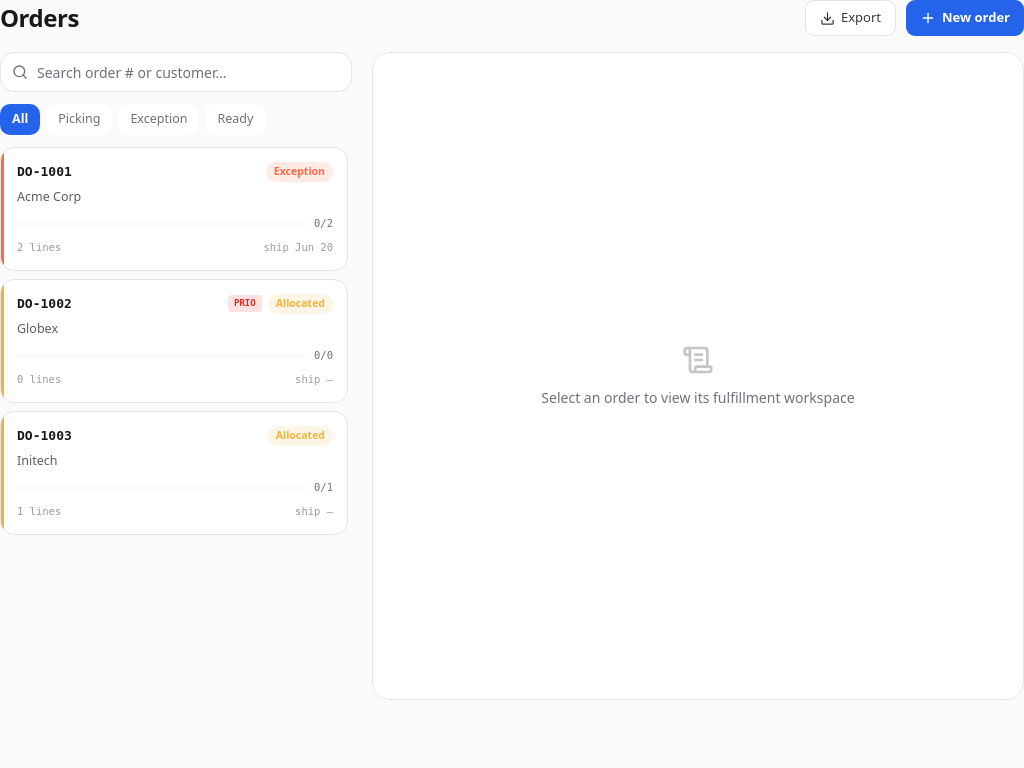
Test: OrdersPage › create form validates that at least one line is filled
The width and height of the screenshot is (1024, 768).
Click the button "New order".
click(965, 18)  # box [906,0,1023,36]
(page scrolled)
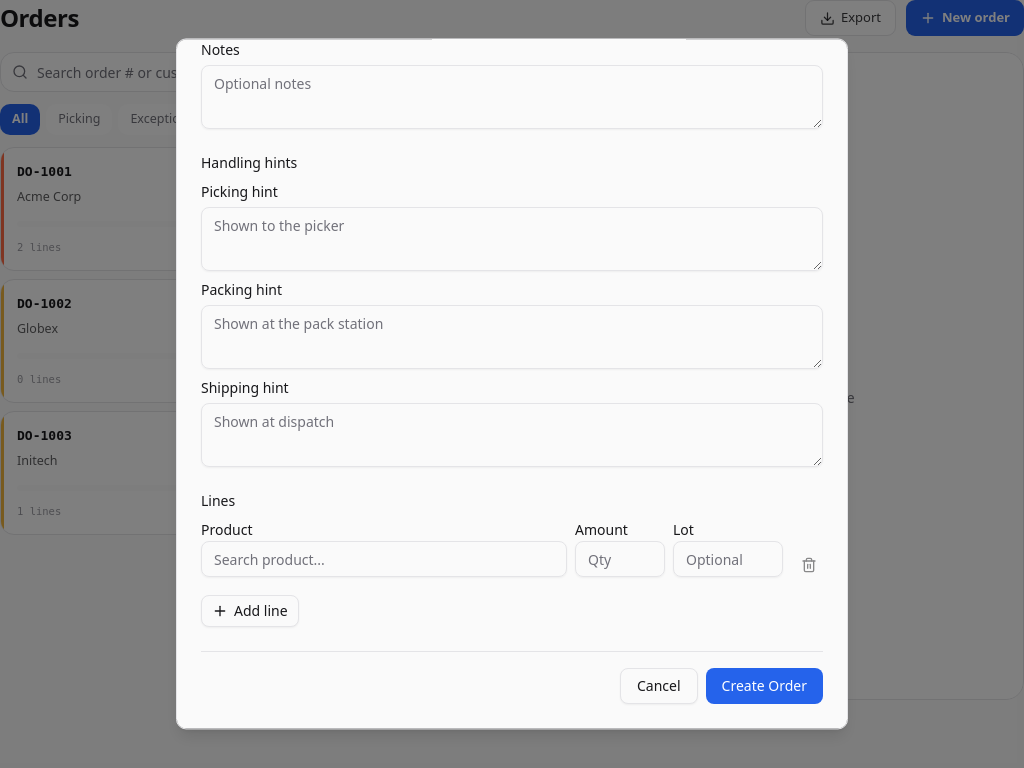
Click the button with test id "order-form-submit".
click(764, 686)  # box [706,668,823,704]
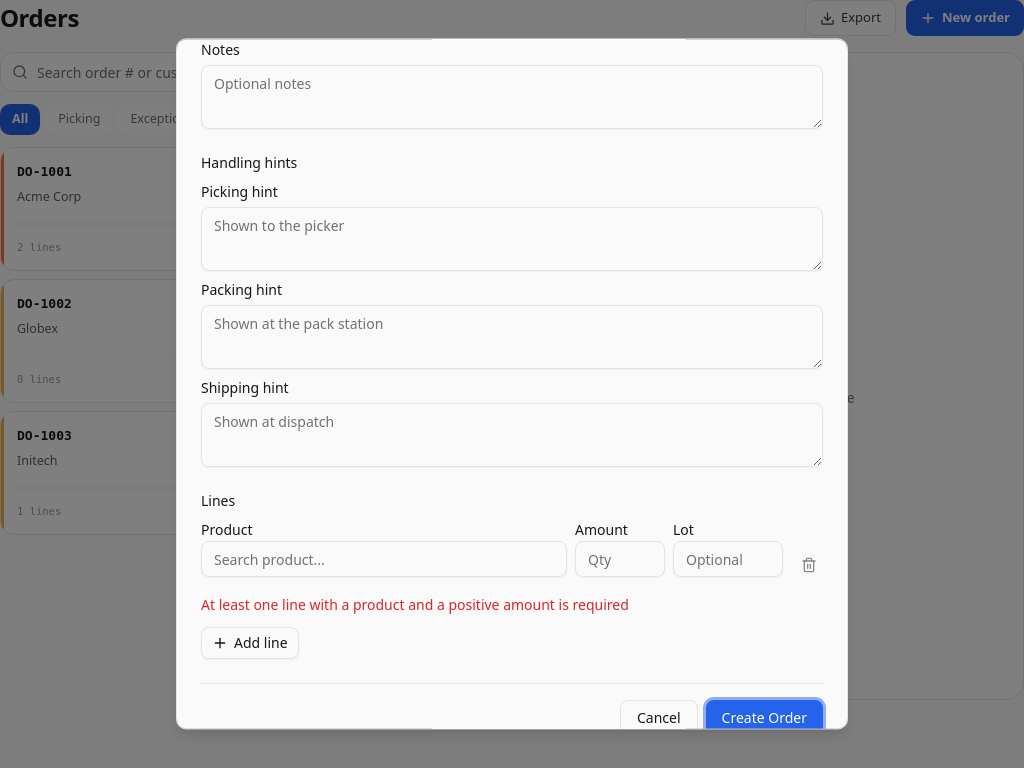
Check: the text "At least one line with a product" is shown, box [201,595,629,614]
